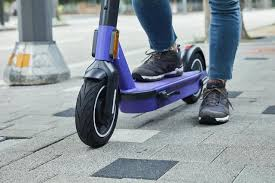kick_wheel: (76, 63, 119, 146)
